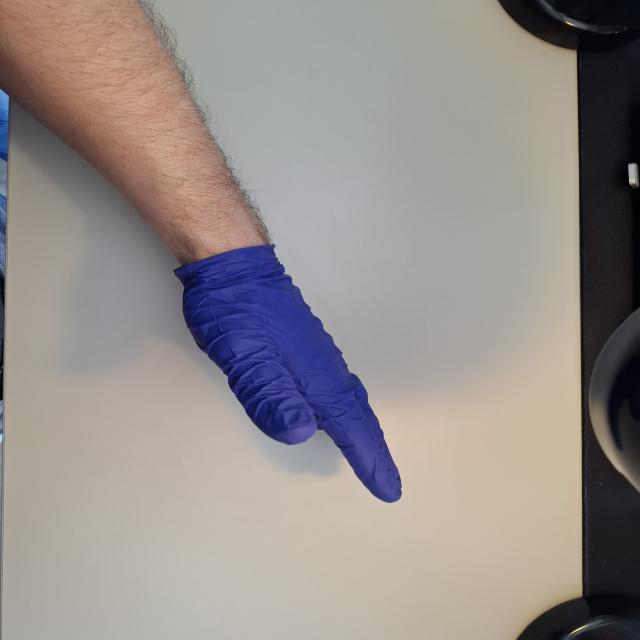glove_on: (171, 248, 405, 505)
